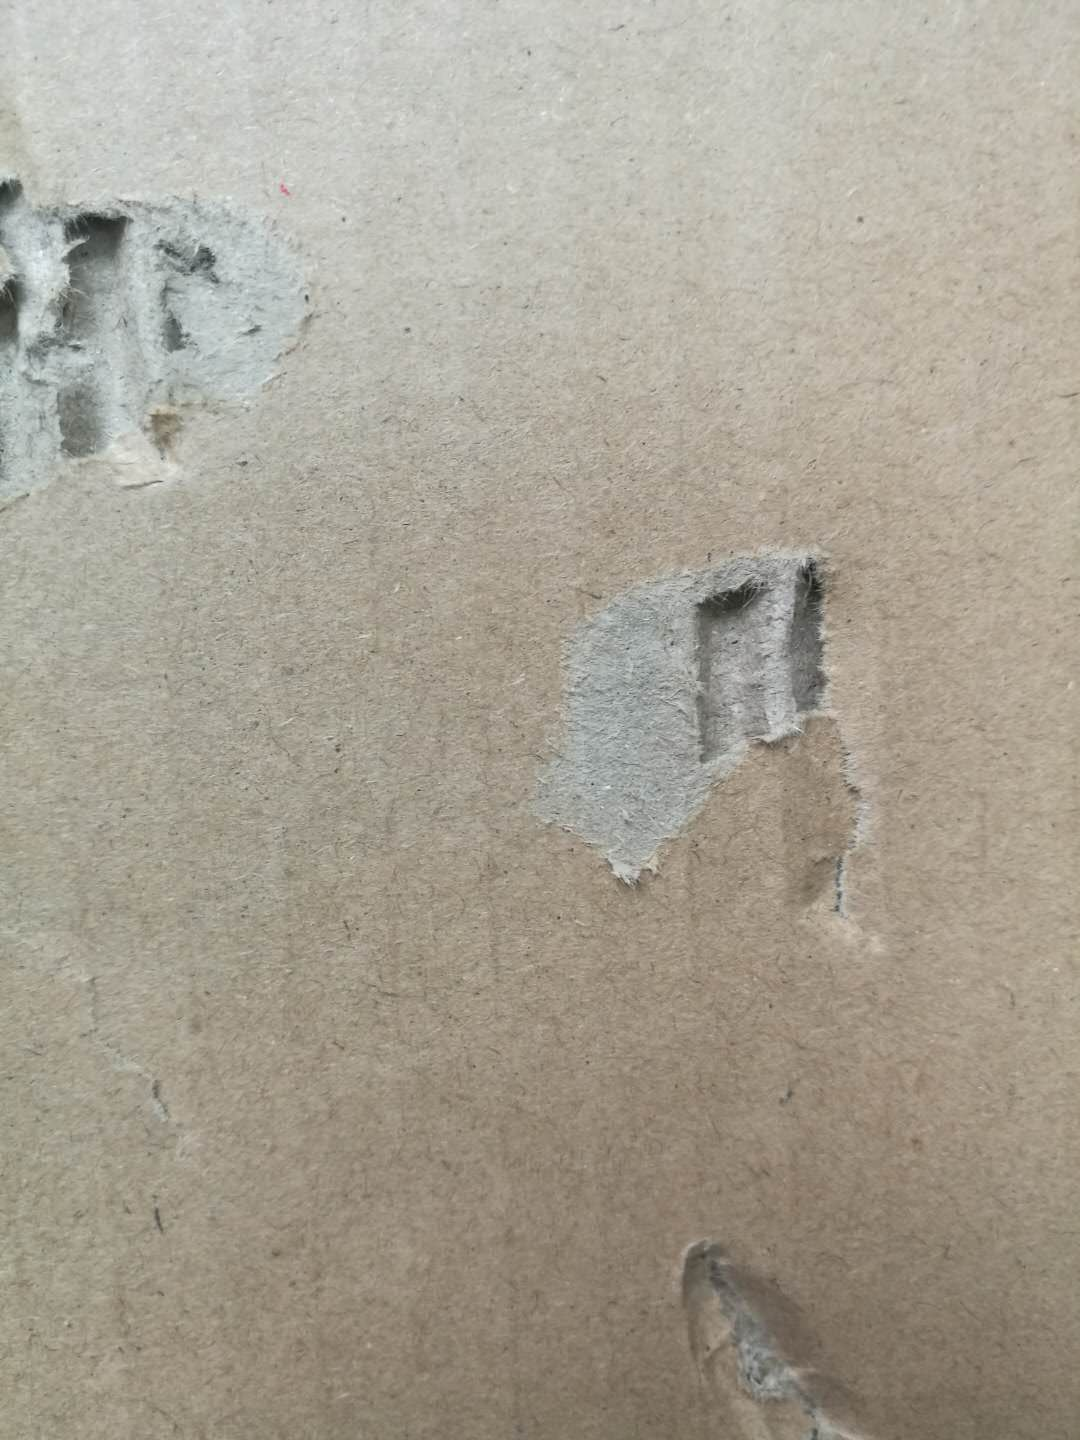defect: (493, 527, 931, 982), (2, 92, 372, 582), (660, 1213, 918, 1440), (5, 884, 200, 1158)
